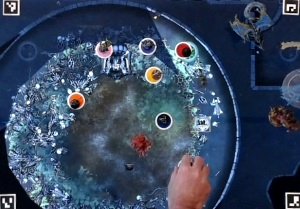blue: (152, 111, 172, 129)
orange: (65, 91, 88, 110)
pink: (93, 38, 114, 58)
red: (172, 40, 192, 58)
violet: (135, 35, 156, 56)
yellow: (143, 63, 163, 84)
